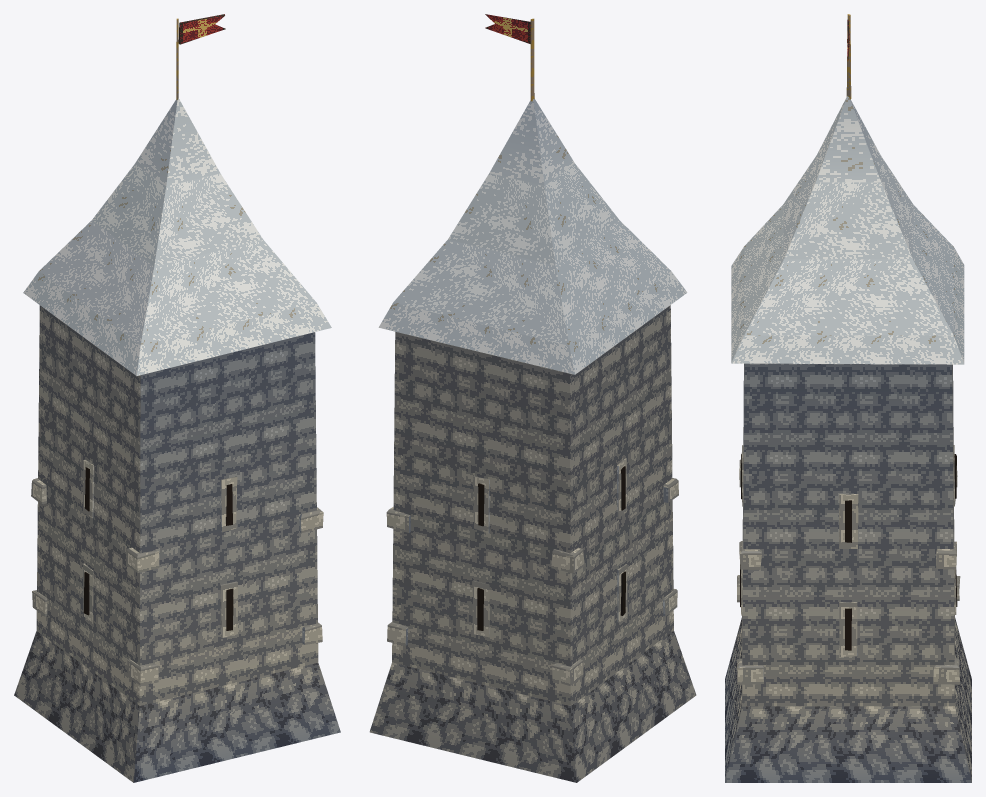
File: cst.tower_square__roofed.glb
3 views of the same model, side by side, from view 1: azimuth 30°, elevation 25°; view 2: azimuth 150°, elevation 25°; view 3: azimuth 270°, elevation 25° (orthographic). The views are drawn at different scales.
Visible parts, largest first — view 1: kit_shaft, kit_top, kit_detail; view 2: kit_shaft, kit_top, kit_detail; view 3: kit_shaft, kit_top, kit_detail.
Part boxes in pixels (x1,y1,x2,y2): kit_shaft: (14, 305, 340, 782); kit_top: (23, 98, 331, 375); kit_detail: (31, 14, 323, 685); kit_shaft: (369, 305, 696, 782); kit_top: (378, 99, 687, 374); kit_detail: (386, 14, 678, 685); kit_shaft: (725, 363, 971, 782); kit_top: (731, 96, 964, 364); kit_detail: (737, 14, 960, 684).
Bounding box in the file's own units: 5.8 × 18.58 × 5.8.
Materials: 7 (7 with a texture image).
